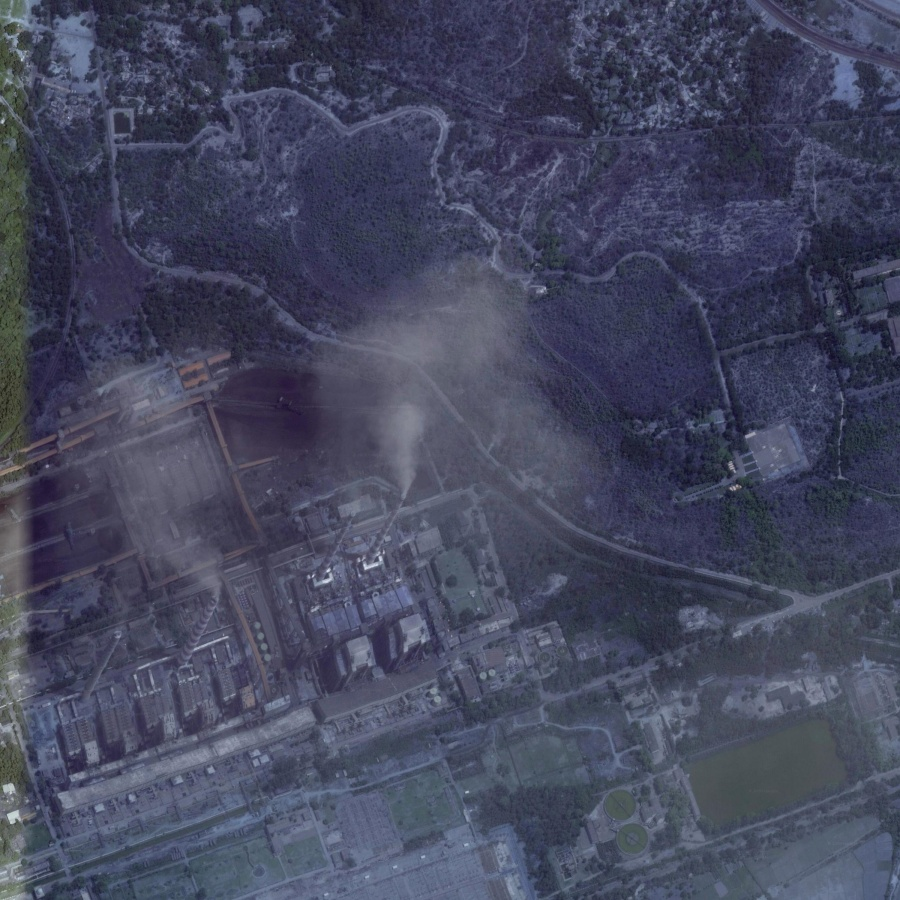PowerPlant: (54, 346, 509, 759), (674, 697, 856, 845)
